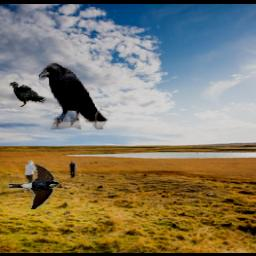Crow: (40, 61, 110, 129), (9, 82, 47, 108)
Swallow: (7, 165, 59, 210)
